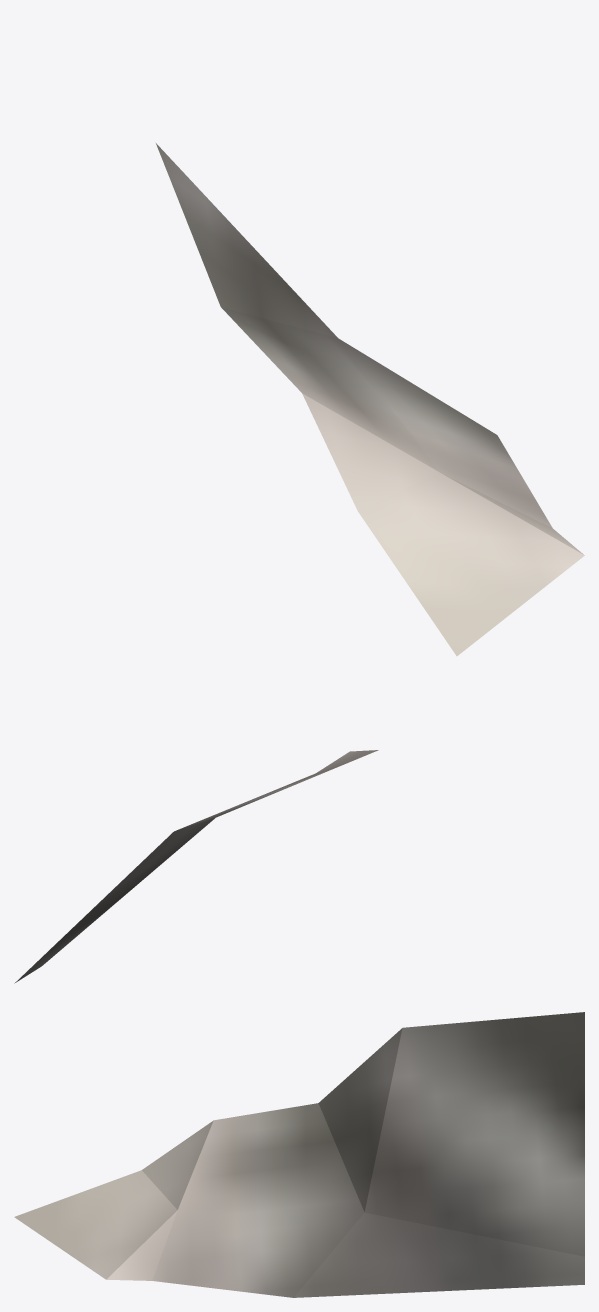
3 views of the same model, one above another, from view 1: azimuth 30°, elevation 25°; view 2: azimuth 150°, elevation 25°; view 3: azimuth 270°, elevation 25° (orthographic). The views are drawn at different scales.
Bounding box in the file's own units: 0.0256 × 0.0302 × 0.0762.
1 material, 1 textured.
